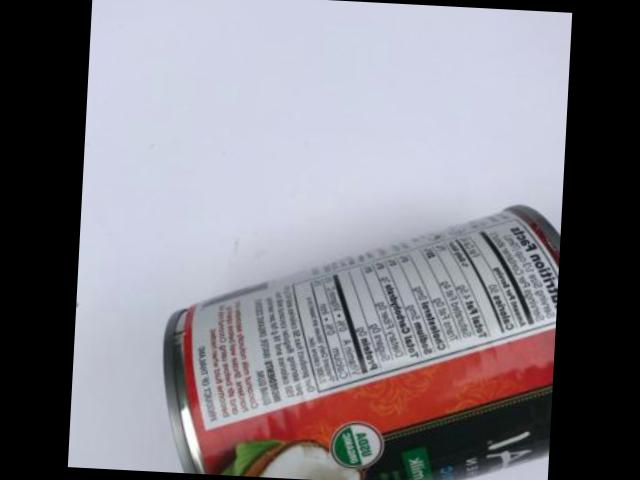metal: (163, 203, 560, 480)
